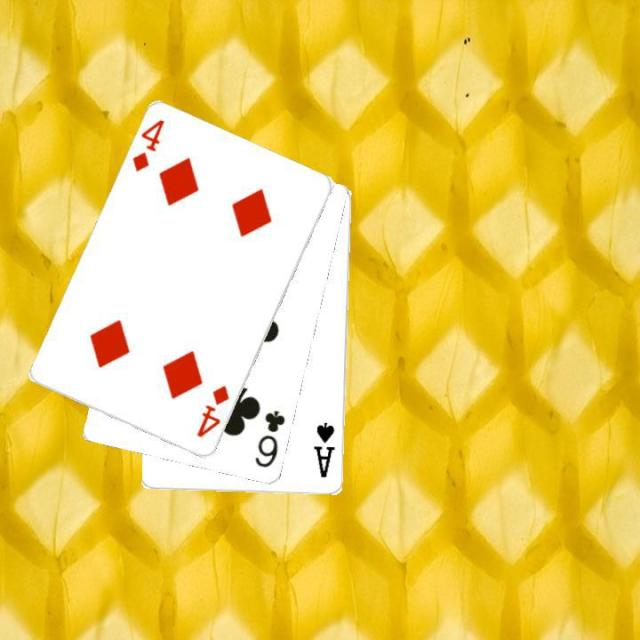4D: (193, 381, 232, 440), (128, 116, 166, 174)
6C: (251, 407, 288, 470)
AS: (310, 419, 338, 480)
